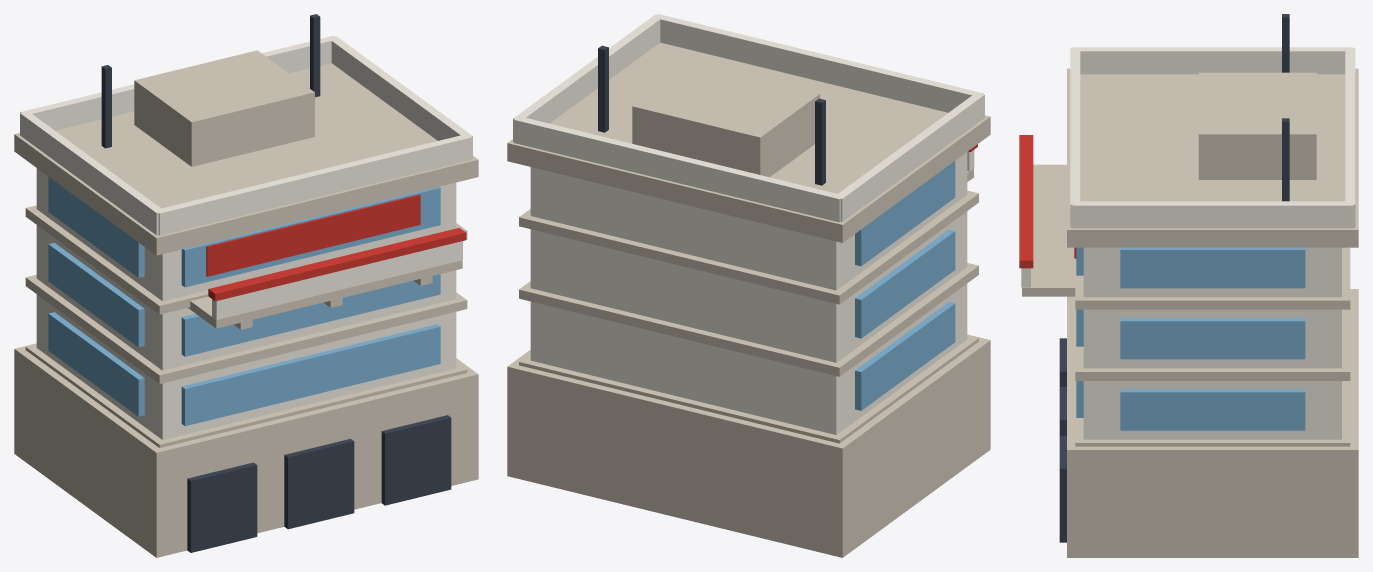
The model's file is serviceBuilding.glb.
3 views of the same model, side by side, from view 1: azimuth 30°, elevation 25°; view 2: azimuth 150°, elevation 25°; view 3: azimuth 270°, elevation 25° (orthographic). The views are drawn at different scales.
Parts seen in each view (by area): view 1: serviceBuilding_concrete, serviceBuilding_white, serviceBuilding_glass, serviceBuilding_steelDark, serviceBuilding_red; view 2: serviceBuilding_concrete, serviceBuilding_white, serviceBuilding_glass, serviceBuilding_steelDark; view 3: serviceBuilding_concrete, serviceBuilding_white, serviceBuilding_glass, serviceBuilding_steelDark, serviceBuilding_red.
Part boxes in pixels (x1,y1,x2,y2): serviceBuilding_concrete: (14,50,478,557); serviceBuilding_white: (20,35,472,439); serviceBuilding_glass: (48,176,440,426); serviceBuilding_steelDark: (101,14,451,552); serviceBuilding_red: (206,194,466,301); serviceBuilding_concrete: (507,42,990,557); serviceBuilding_white: (513,14,984,434); serviceBuilding_glass: (855,161,955,410); serviceBuilding_steelDark: (598,45,825,185); serviceBuilding_concrete: (1022,68,1358,557); serviceBuilding_white: (1021,47,1355,439); serviceBuilding_glass: (1076,247,1305,430); serviceBuilding_steelDark: (1059,14,1289,542); serviceBuilding_red: (1019,135,1076,268).
Size of the model in its own units: 13.6 by 16.1 by 12.1.
